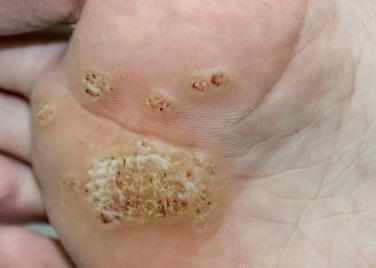Warts: (61, 131, 229, 239), (74, 54, 121, 113), (184, 59, 233, 101), (136, 85, 183, 119), (31, 94, 59, 131)
